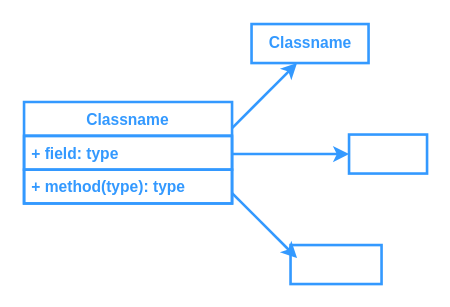
Image size: 450x307. Some labels were removed from this diagram. Here are the shapes that lost their labels. From the top down, the centre of each, then its label:
At point 387,153: "Atribut".
At point 335,264: "Method".
